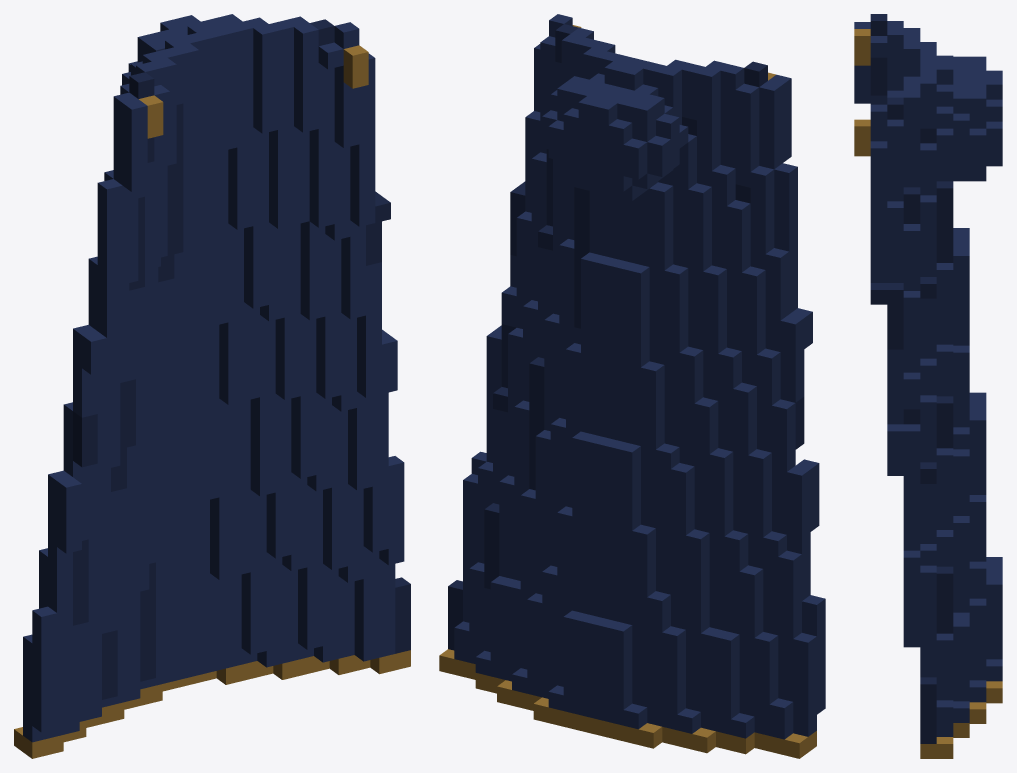
The model's file is cloth_rare_cloak_lod1.glb.
3 views of the same model, side by side, from view 1: azimuth 30°, elevation 25°; view 2: azimuth 150°, elevation 25°; view 3: azimuth 270°, elevation 25° (orthographic). The views are drawn at different scales.
Visible parts, largest first — view 1: cloth_rare_cloak_lod1; view 2: cloth_rare_cloak_lod1; view 3: cloth_rare_cloak_lod1.
Part boxes in pixels (bbox=[...]): cloth_rare_cloak_lod1: bbox=[14, 14, 410, 758]; cloth_rare_cloak_lod1: bbox=[439, 14, 825, 758]; cloth_rare_cloak_lod1: bbox=[854, 14, 1002, 758].
Bounding box in the file's own units: 0.576 × 0.984 × 0.216.
